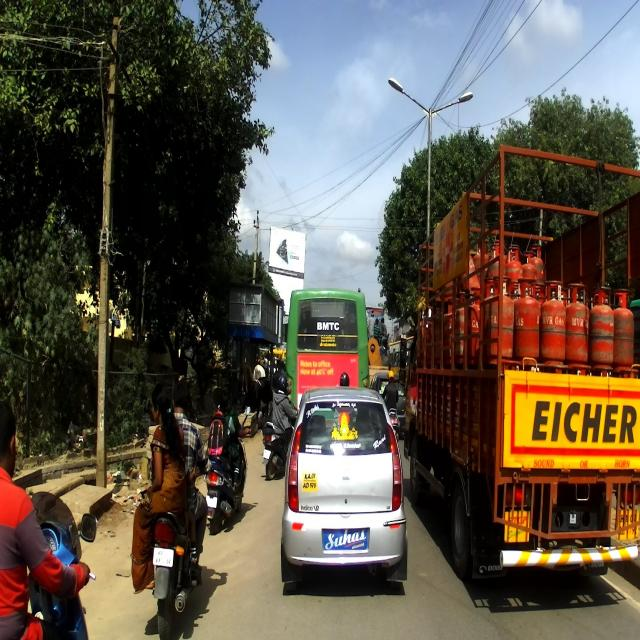bus: (285, 282, 370, 426)
car: (280, 385, 409, 590)
motorcycle: (147, 463, 213, 638)
scooter: (19, 494, 94, 639), (204, 404, 250, 535), (262, 414, 297, 480)
truck: (398, 142, 640, 581)
